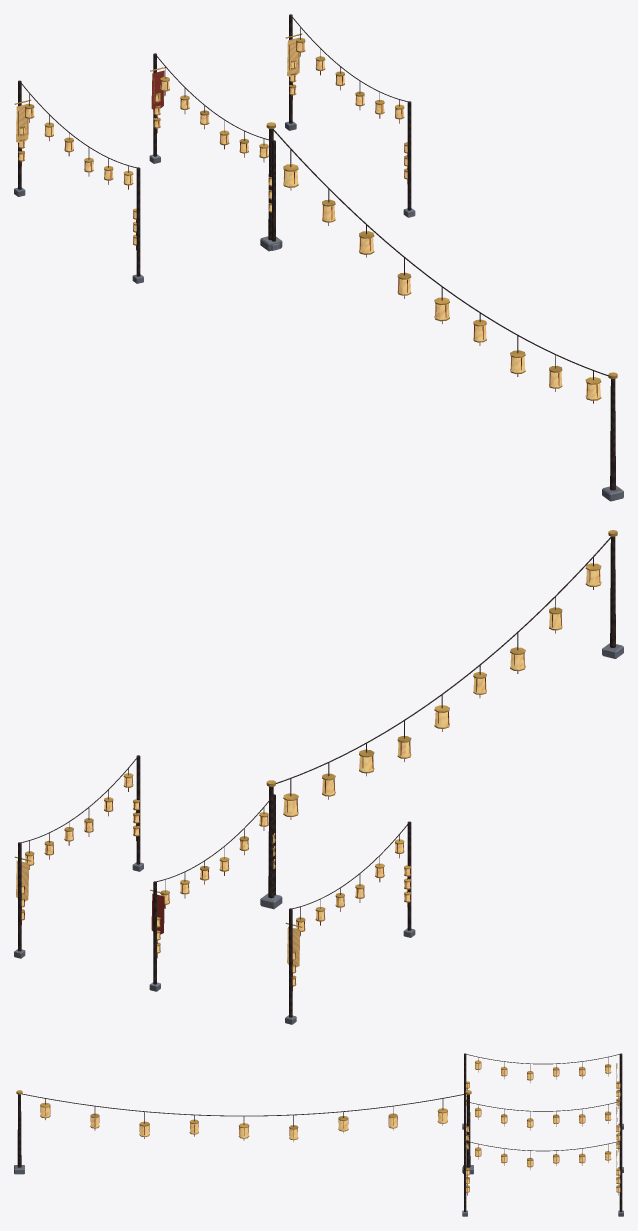
File: model-lantern-array-s3.glb
The picture shows the model from 3 angles, top to bottom: view 1: azimuth 30°, elevation 25°; view 2: azimuth 150°, elevation 25°; view 3: azimuth 270°, elevation 25°; orthographic projection. The views are drawn at different scales.
Visible parts, largest first — view 1: model-lantern-array-s3; view 2: model-lantern-array-s3; view 3: model-lantern-array-s3.
Part boxes in pixels (<box>): model-lantern-array-s3: <box>14,14,623,501</box>; model-lantern-array-s3: <box>14,530,623,1024</box>; model-lantern-array-s3: <box>14,1053,623,1216</box>.
Size of the model in its own units: 12.72 by 5.2 by 35.6.
Materials: 6 (6 with a texture image).
